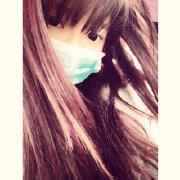OK: (36, 14, 110, 88)
